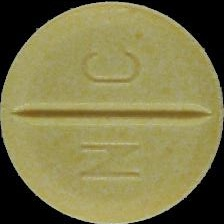55695-020: (0, 0, 224, 224)
